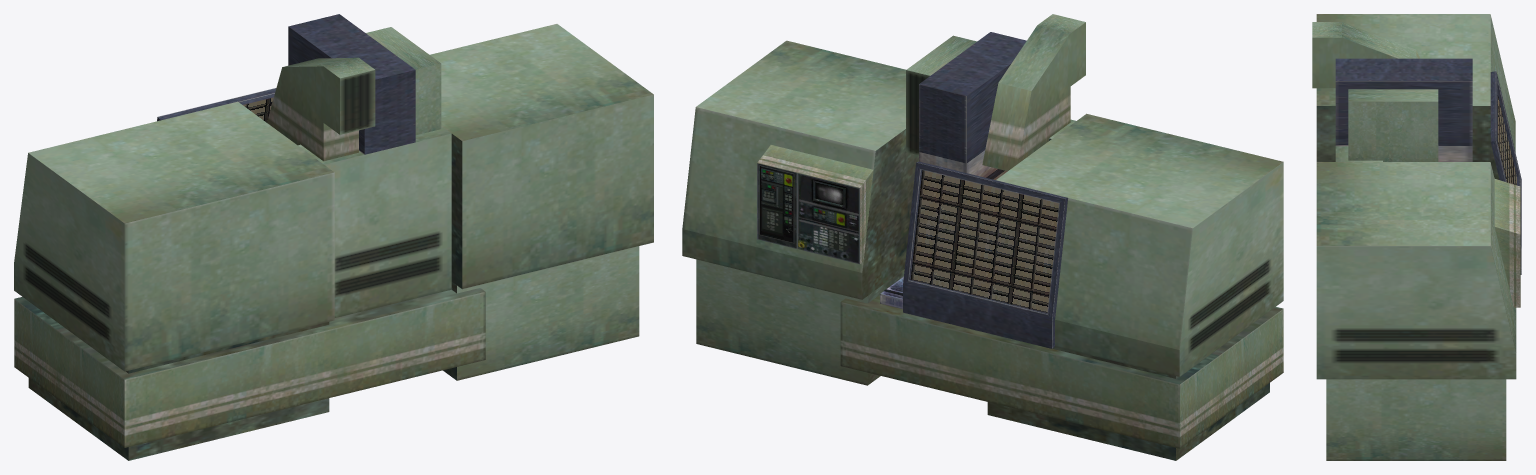
File: cnc_machine02.fbx
3 views of the same model, side by side, from view 1: azimuth 30°, elevation 25°; view 2: azimuth 150°, elevation 25°; view 3: azimuth 270°, elevation 25° (orthographic). The views are drawn at different scales.
Parts seen in each view (by area): view 1: mesh_1; view 2: mesh_1, mesh_0; view 3: mesh_1, mesh_0.
Part boxes in pixels (<box>): mesh_1: <box>14,14,653,460</box>; mesh_1: <box>682,14,1283,460</box>; mesh_0: <box>910,170,1059,313</box>; mesh_1: <box>1312,14,1521,460</box>; mesh_0: <box>1497,95,1516,185</box>.
Bounding box in the file's own units: 580 × 355 × 221.
2 materials, 2 textured.
